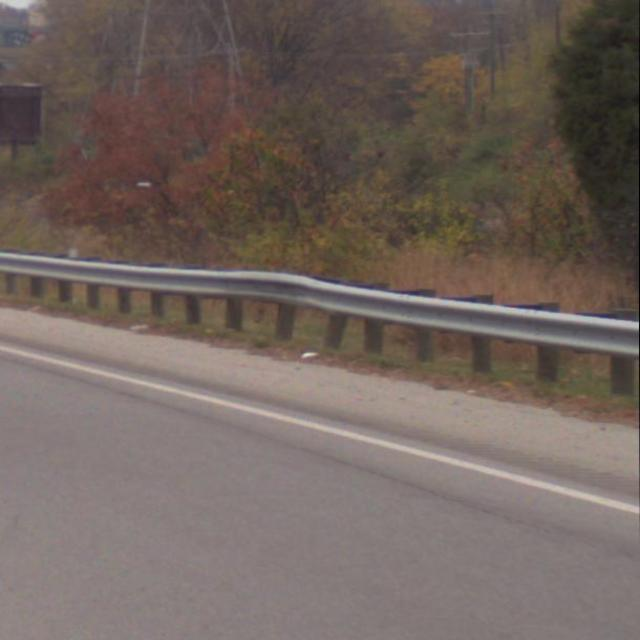Guard rail: (0, 242, 640, 404)
